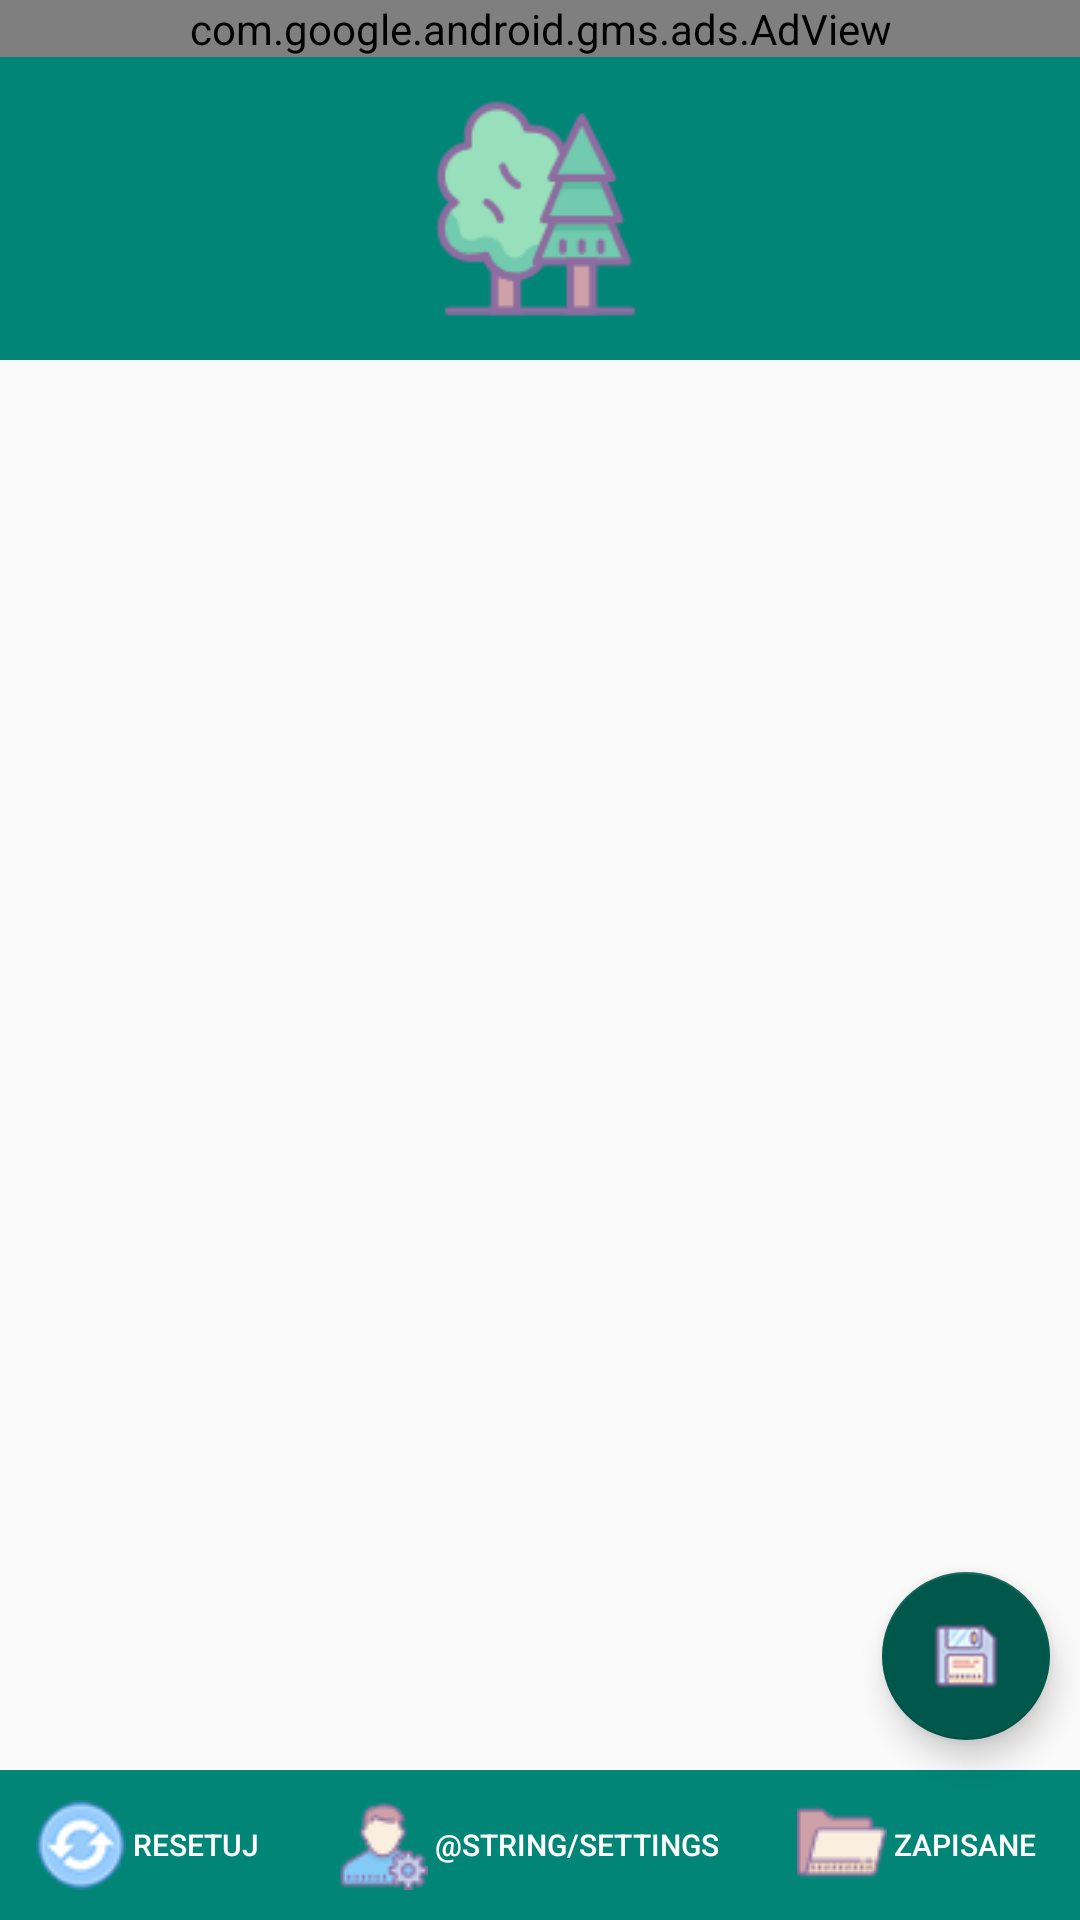

Icons on this 1080×1920 Android screen, each with the point to tap as (x=x, y=y):
forest: (x=536, y=208)
save: (x=966, y=1656)
